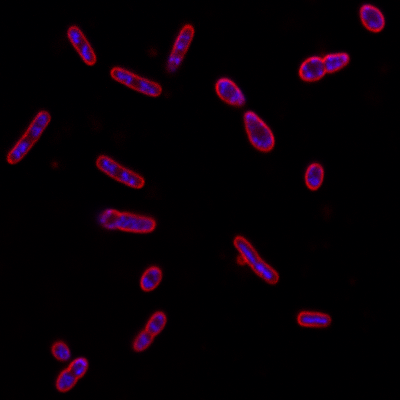Control: (5, 110, 51, 166), (94, 153, 145, 190), (110, 65, 163, 98), (65, 25, 97, 67)
MP265: (131, 311, 168, 354), (54, 357, 89, 393), (140, 265, 163, 292)
Mecillinam: (297, 51, 351, 83), (241, 110, 277, 153), (357, 3, 386, 33), (303, 161, 327, 191)
Oblique: (95, 208, 157, 234), (166, 24, 196, 74), (213, 76, 246, 107), (50, 340, 72, 362)
Rifampicin: (230, 235, 281, 285), (295, 309, 332, 329)
